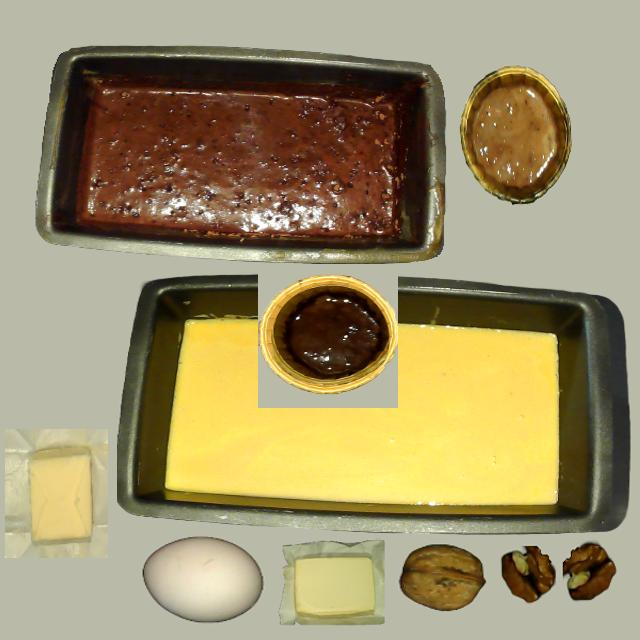Walnut: (394, 533, 494, 626)
